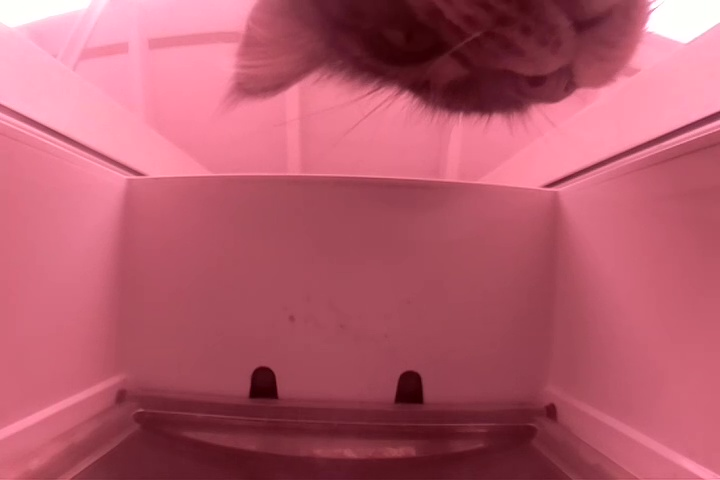Snout: (505, 1, 629, 105)
